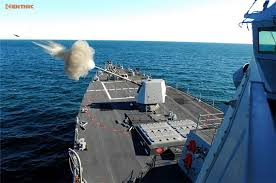tau_muctieu: (79, 48, 276, 183)
